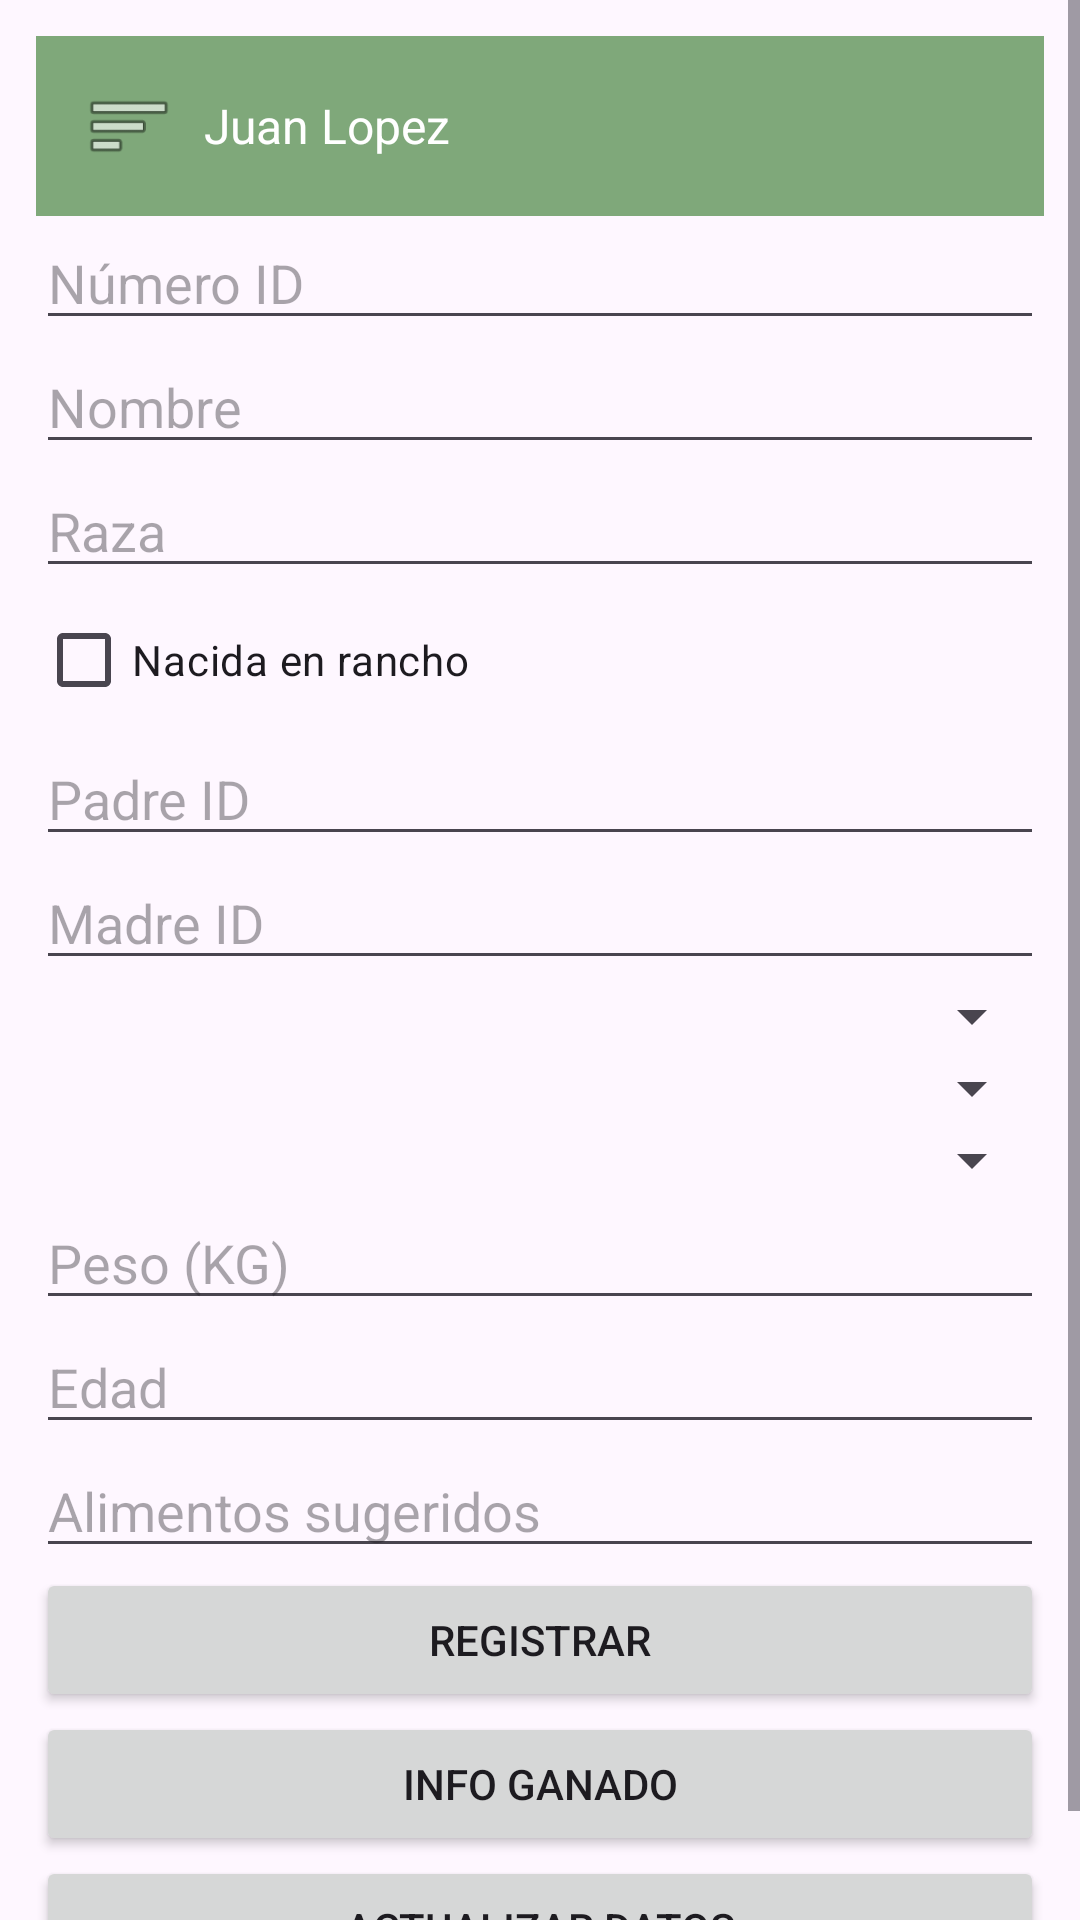

Icons on this 1080 x 1920 Android screen, each with the point to tap as (x,y):
sort by size: (129,126)
